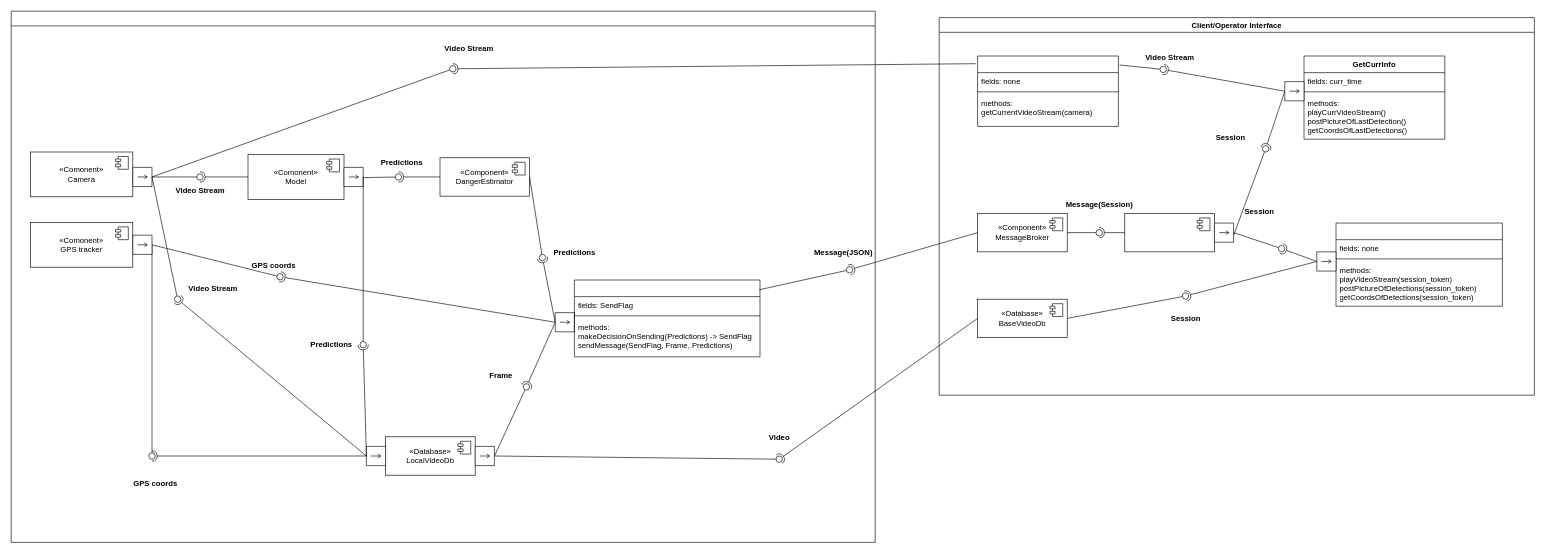
This 1546x554 diagram has some shape labels left out. Here are the shapes that lost their labels. From the top down, the box of each, then its label:
(977, 55, 1118, 126): FPV_Switch
(1124, 213, 1214, 252): «Database» BaseDetectionsDb
(11, 11, 875, 542): UAV
(1335, 222, 1502, 306): All_Info_controller
(574, 279, 760, 357): MessageCreator
